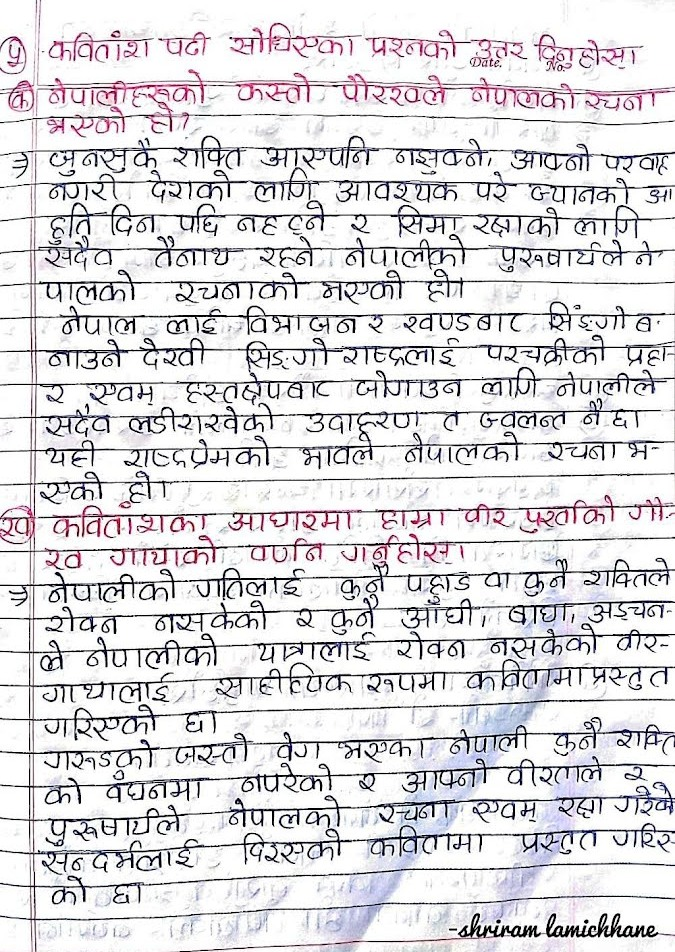text: (463, 658, 674, 691), (46, 67, 206, 106), (213, 659, 355, 701), (41, 803, 181, 844), (81, 630, 222, 670), (51, 503, 210, 538), (121, 434, 274, 468), (34, 842, 202, 872), (181, 370, 333, 403), (400, 429, 524, 469), (227, 22, 357, 60), (42, 702, 162, 742), (48, 568, 181, 604), (124, 403, 277, 434), (37, 670, 176, 704), (488, 239, 626, 272), (341, 234, 474, 268), (250, 630, 378, 665), (479, 334, 610, 368), (225, 792, 347, 828), (341, 334, 462, 370), (170, 271, 305, 303), (391, 132, 486, 177), (46, 138, 158, 176), (242, 301, 360, 337), (259, 136, 378, 171), (239, 826, 345, 865), (334, 73, 452, 108), (365, 823, 490, 856), (467, 75, 578, 112), (533, 33, 641, 70), (519, 492, 618, 532), (41, 266, 138, 306), (42, 737, 156, 771), (152, 599, 269, 632), (107, 534, 223, 567), (553, 368, 667, 401), (489, 625, 603, 658), (194, 567, 304, 601), (340, 533, 454, 565), (48, 28, 152, 63), (103, 769, 209, 803), (353, 368, 465, 400), (329, 177, 460, 204), (240, 334, 333, 372), (400, 757, 493, 794), (145, 167, 237, 204), (303, 408, 429, 435), (235, 201, 329, 237), (318, 268, 407, 306), (401, 308, 525, 335), (365, 28, 460, 63), (226, 508, 358, 533), (471, 206, 567, 240), (295, 430, 379, 468), (507, 755, 606, 787), (543, 298, 628, 335), (239, 762, 337, 794), (581, 556, 673, 590), (149, 233, 235, 269), (57, 304, 143, 337), (234, 71, 315, 106), (526, 177, 631, 204), (45, 337, 128, 371), (509, 141, 593, 174), (334, 733, 429, 762), (174, 732, 252, 767), (448, 723, 533, 755), (515, 826, 602, 857), (399, 596, 479, 629), (571, 204, 646, 239), (390, 203, 462, 239), (171, 135, 245, 170), (43, 604, 121, 637), (45, 107, 129, 137), (248, 533, 326, 565), (608, 819, 675, 856), (42, 239, 117, 272), (585, 596, 672, 624), (135, 335, 208, 368), (248, 167, 314, 203), (473, 406, 571, 430), (372, 797, 456, 825), (254, 235, 320, 270), (550, 714, 603, 757), (38, 470, 105, 504), (469, 794, 540, 826), (43, 202, 95, 245), (395, 630, 467, 661), (42, 173, 121, 201), (365, 670, 450, 696), (612, 722, 675, 757), (612, 782, 675, 817), (86, 379, 159, 409), (520, 556, 572, 598), (43, 409, 115, 438), (598, 149, 672, 177), (583, 87, 659, 114), (328, 595, 378, 636), (373, 504, 450, 530), (481, 365, 539, 399), (403, 570, 474, 596), (174, 201, 222, 239), (544, 440, 620, 464), (338, 566, 391, 599), (162, 308, 221, 337), (43, 439, 101, 468), (108, 201, 157, 235), (274, 729, 321, 763), (505, 601, 571, 625), (46, 873, 90, 909), (158, 30, 210, 60), (612, 626, 662, 657), (472, 35, 529, 62), (555, 792, 605, 822), (623, 337, 671, 367), (43, 775, 85, 807), (474, 169, 512, 203), (462, 501, 509, 528), (35, 637, 68, 675), (627, 497, 667, 525), (43, 544, 83, 572), (124, 470, 156, 504), (425, 267, 455, 303), (145, 103, 175, 135), (609, 406, 648, 430), (630, 309, 666, 334), (579, 397, 605, 428), (1, 513, 32, 539), (181, 707, 207, 736), (633, 239, 658, 269), (40, 381, 67, 408), (642, 183, 674, 205), (622, 437, 651, 461), (292, 606, 319, 631), (482, 571, 514, 592), (622, 759, 651, 782), (3, 40, 25, 70), (438, 408, 464, 433), (110, 880, 134, 907), (348, 209, 372, 235), (361, 313, 388, 336), (358, 770, 381, 794), (8, 90, 32, 110)
